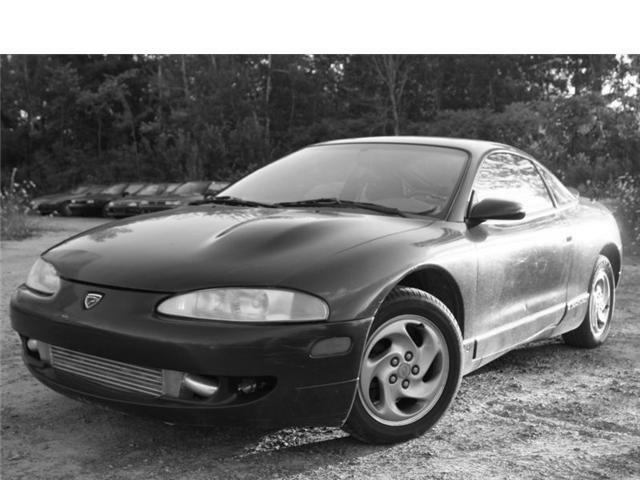car: (9, 131, 623, 447)
